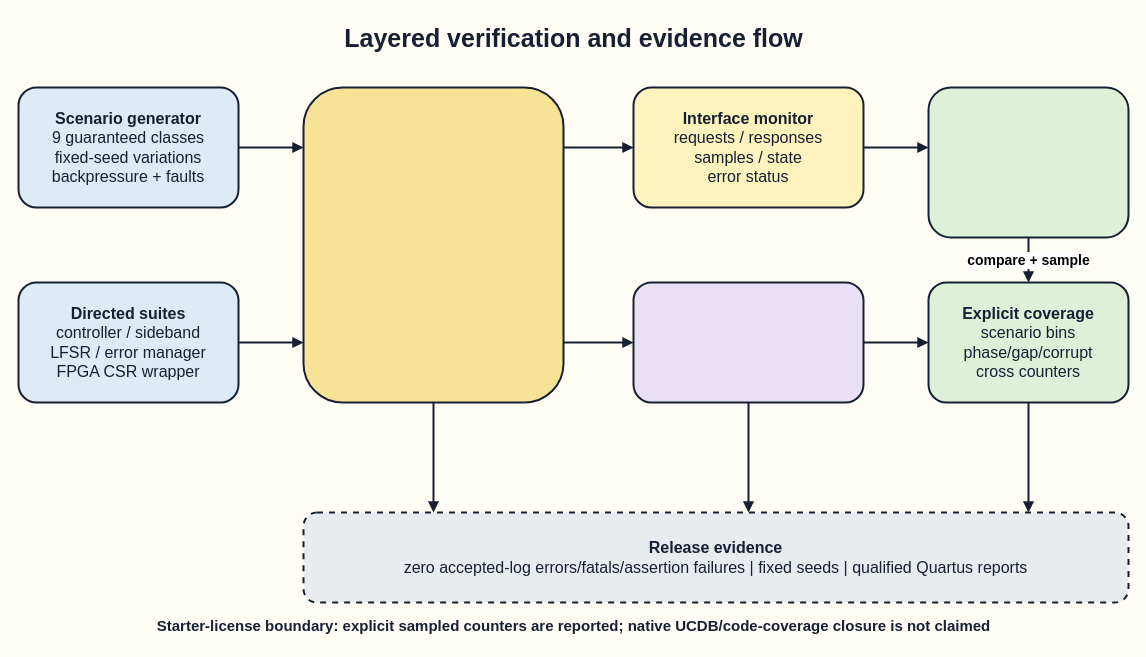
Image size: 1146x657. Some labels were removed from this diagram. The centre of each missing label's shape, as x and y in pixels:
"DUT LTSM controller sideband sequencer LFSR engine error manager CSR wrapper" belongs at [433,244].
"Independent predictor message order 23-bit lane LFSR threshold + cause" belongs at [1028,162].
"SVA safety invariants bounded entry phase ordering" belongs at [748,342].
